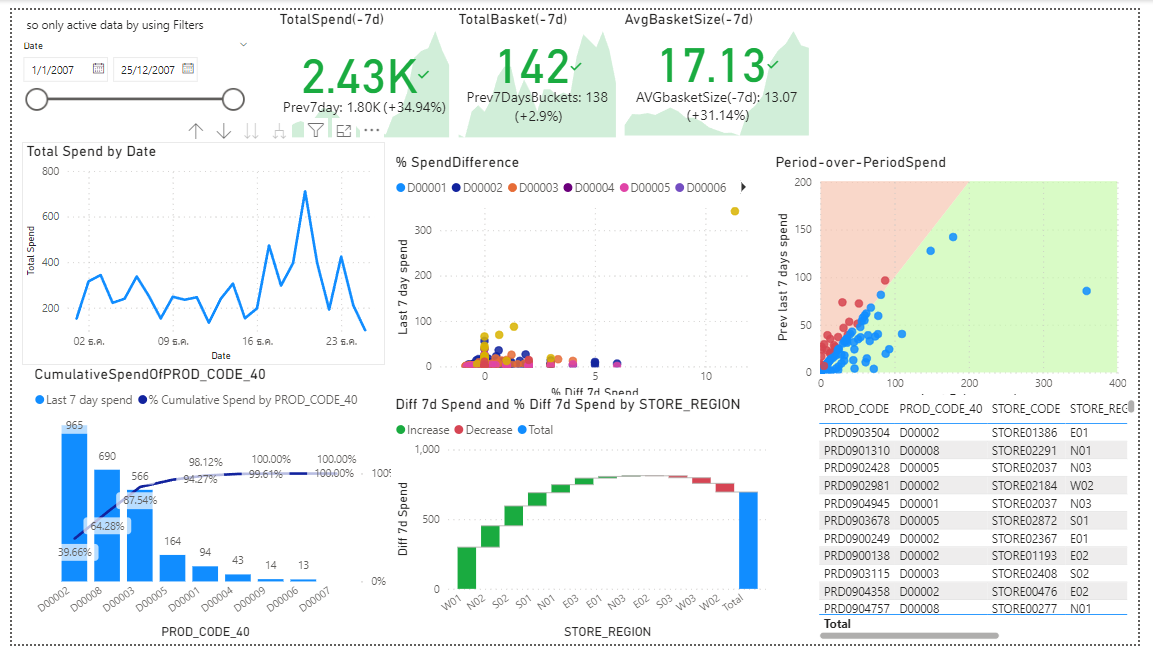

What the dashboard file says about the page in this screenshot:
{"tool":"powerbi","page":{"name":"Page1-SalesOverviewDashboard(PROD_region)","canvas":[1280,720],"ordinal":10},"visuals":[{"type":"slicer","fields":{"Values":["Data Table.Date"]},"box":[0,29.3,280.4,120.7],"z":0},{"type":"textbox","box":[10.9,2.2,260.9,34.8],"z":1000},{"type":"kpi","title":"TotalSpend(-7d)","fields":{"Indicator":["transactions.Last 7 day spend"],"TrendLine":["Data Table.Date"],"Goal":["transactions.Prev last 7 days spend"]},"box":[298.9,0,203.3,150],"z":2000},{"type":"kpi","title":"TotalBasket(-7d)","fields":{"TrendLine":["Data Table.Date"],"Indicator":["transactions.Last 7 days Total Baskets"],"Goal":["transactions.Prev Last 7 days Total Basket"]},"box":[502.2,0,189.1,150],"z":3000},{"type":"kpi","title":"AvgBasketSize(-7d)","fields":{"Indicator":["transactions.Last 7 Days Avg Basket Size"],"TrendLine":["Data Table.Date"],"Goal":["transactions.Prev last 7 Days AVG basket Size"]},"box":[691.3,0,219.6,147.8],"z":4000},{"type":"lineChart","fields":{"Y":["transactions.Total Spend"],"Category":["Data Table.DateHierarchy.YearQuarter","Data Table.DateHierarchy.YearMonth","Data Table.DateHierarchy.Date"]},"box":[10.9,150,413,253.3],"z":5000},{"type":"lineStackedColumnComboChart","title":"CumulativeSpendOfPROD_CODE_40","fields":{"Category":["products.PROD_CODE_40"],"Y":["transactions.Last 7 day spend"],"Y2":["transactions.% Cumulative Spend by PROD_CODE_40"]},"box":[20.7,403.3,422.8,316.3],"z":6000},{"type":"scatterChart","title":"% SpendDifference","fields":{"Category":["products.PROD_CODE"],"X":["transactions.% Diff 7d Spend"],"Y":["transactions.Last 7 day spend"],"Series":["products.PROD_CODE_40"]},"box":[430.4,163,419.6,285.9],"z":7000},{"type":"waterfallChart","fields":{"Y":["transactions.Diff 7d Spend"],"Category":["stores.STORE_REGION"]},"box":[430.4,437,432.6,282.6],"z":8000},{"type":"scatterChart","title":"Period-over-PeriodSpend","fields":{"Category":["stores.STORE_CODE"],"X":["transactions.Last 7 day spend"],"Y":["transactions.Prev last 7 days spend"]},"box":[863,163,408.7,292.4],"z":9000},{"type":"tableEx","fields":{"Values":["products.PROD_CODE","products.PROD_CODE_40","stores.STORE_CODE","stores.STORE_REGION","transactions.Last 7 day spend","transactions.% Diff 7d Spend"]},"box":[910.9,437,369.6,282.6],"z":10000}]}

Visuals, with their boxes in screenshot pixels (x1, y1, x2, y2), scaled from the page's 1280x720 canvas onto the 1153x666 screenshot:
slicer - Data Table.Date: x1=0 y1=27 x2=253 y2=139
textbox: x1=10 y1=2 x2=245 y2=34
"TotalSpend(-7d)" kpi: x1=269 y1=0 x2=452 y2=139
"TotalBasket(-7d)" kpi: x1=452 y1=0 x2=623 y2=139
"AvgBasketSize(-7d)" kpi: x1=623 y1=0 x2=821 y2=137
lineChart - transactions.Total Spend x Data Table.DateHierarchy.YearQuarter: x1=10 y1=139 x2=382 y2=373
"CumulativeSpendOfPROD_CODE_40" lineStackedColumnComboChart: x1=19 y1=373 x2=399 y2=665
"% SpendDifference" scatterChart: x1=388 y1=151 x2=766 y2=415
waterfallChart - transactions.Diff 7d Spend x stores.STORE_REGION: x1=388 y1=404 x2=777 y2=665
"Period-over-PeriodSpend" scatterChart: x1=777 y1=151 x2=1146 y2=421
tableEx - products.PROD_CODE x products.PROD_CODE_40: x1=821 y1=404 x2=1152 y2=665
